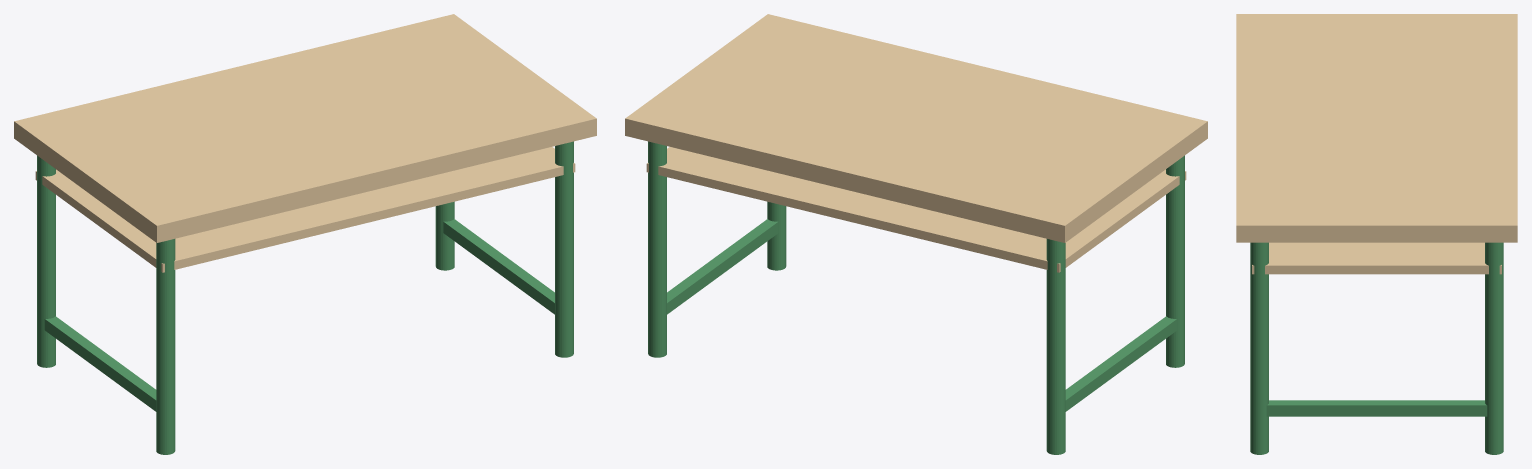
The model's file is szkolna_lawka.fbx.
3 views of the same model, side by side, from view 1: azimuth 30°, elevation 25°; view 2: azimuth 150°, elevation 25°; view 3: azimuth 270°, elevation 25° (orthographic).
Visible parts, largest first — view 1: BlatLawki; view 2: BlatLawki; view 3: BlatLawki.
Part boxes in pixels (x1,y1,x2,y2): BlatLawki: (14, 14, 596, 454); BlatLawki: (625, 14, 1207, 454); BlatLawki: (1236, 14, 1517, 454).
Bounding box in the file's own units: 3.2 × 1.66 × 1.8.
